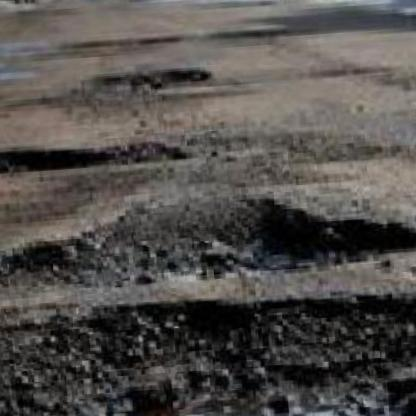pothole: (0, 273, 416, 416), (0, 180, 416, 303), (0, 126, 197, 183), (77, 58, 213, 100)
